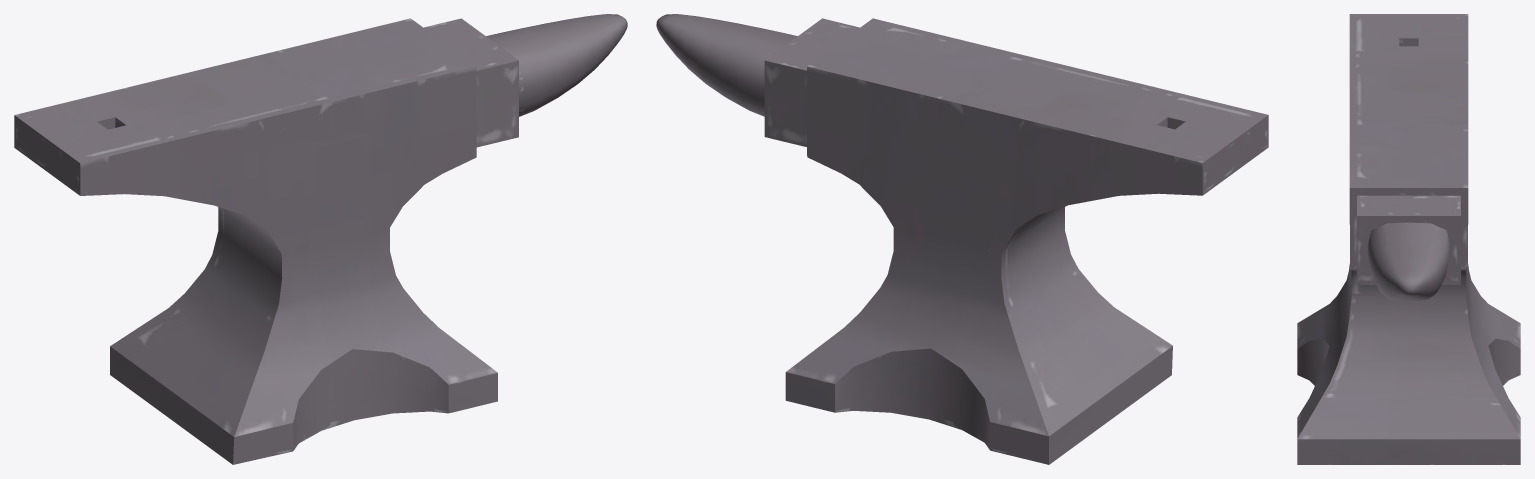
File: Anvil.glb
The picture shows the model from 3 angles, left to right: view 1: azimuth 30°, elevation 25°; view 2: azimuth 150°, elevation 25°; view 3: azimuth 270°, elevation 25°; orthographic projection. The views are drawn at different scales.
Visible parts, largest first — view 1: Anvil; view 2: Anvil; view 3: Anvil.
Boxes of the visible parts, left/top/right/bottom form: Anvil: left=14, top=14, right=627, bottom=464; Anvil: left=656, top=14, right=1268, bottom=464; Anvil: left=1297, top=14, right=1520, bottom=464.
Bounding box in the file's own units: 1.08 × 0.556 × 0.4015.
Materials: 1 (1 with a texture image).
